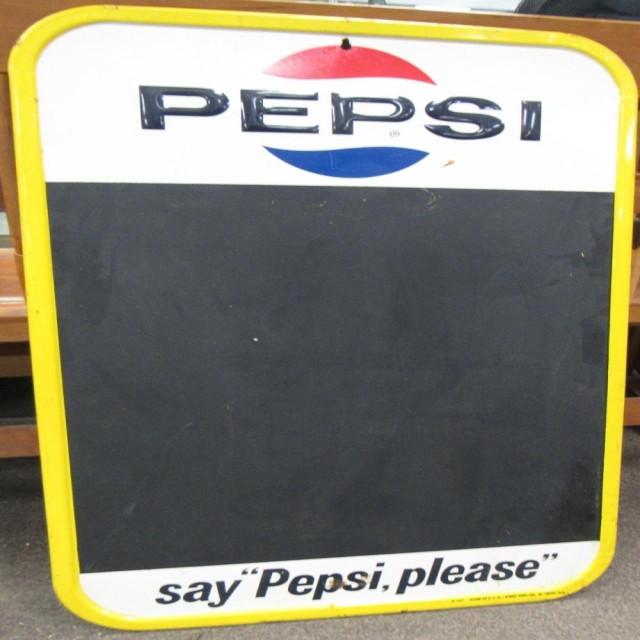pepsi: (125, 34, 567, 186)
